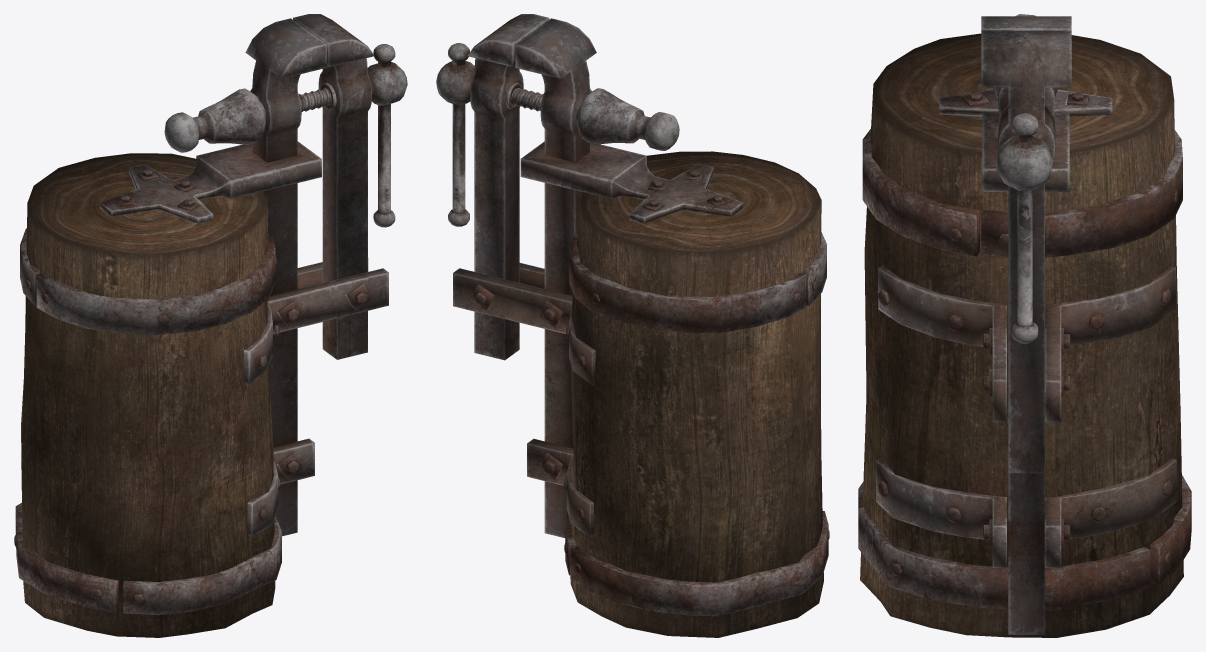
Rendered from chainvise.glb.
3 views of the same model, side by side, from view 1: azimuth 30°, elevation 25°; view 2: azimuth 150°, elevation 25°; view 3: azimuth 270°, elevation 25° (orthographic). The views are drawn at different scales.
Visible parts, largest first — view 1: Object_2, Object_3; view 2: Object_2, Object_3; view 3: Object_2, Object_3.
Part boxes in pixels (x1,y1,x2,y2): Object_2: (14,153,371,637); Object_3: (100,14,407,536); Object_2: (470,151,829,637); Object_3: (436,14,742,537); Object_2: (858,33,1191,637); Object_3: (876,14,1176,634).
Size of the model in its own units: 67.75 by 88.98 by 41.85.
2 materials, 2 textured.
